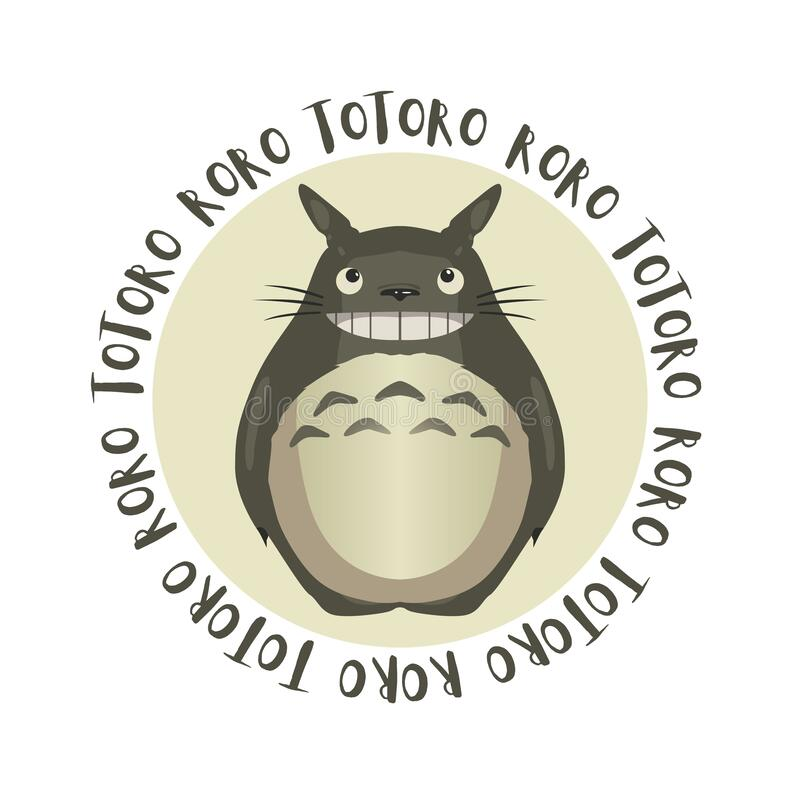Totoro: (231, 178, 570, 626)
